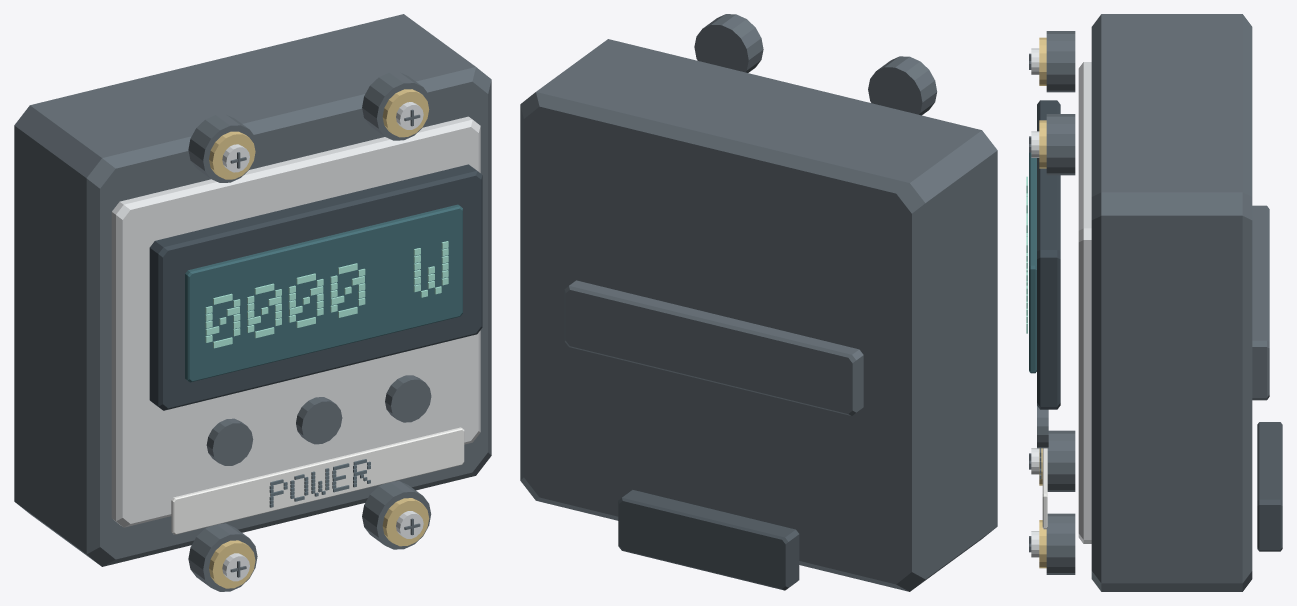
The model's file is wattmeter.glb.
The picture shows the model from 3 angles, left to right: view 1: azimuth 30°, elevation 25°; view 2: azimuth 150°, elevation 25°; view 3: azimuth 270°, elevation 25°; orthographic projection. The views are drawn at different scales.
Parts seen in each view (by area): view 1: wattmeter-preview; view 2: wattmeter-preview; view 3: wattmeter-preview.
Boxes of the visible parts, x1,y1,x2,y2 form: wattmeter-preview: [14, 14, 491, 591]; wattmeter-preview: [520, 14, 997, 591]; wattmeter-preview: [1026, 14, 1282, 591].
Size of the model in its own units: 2.33 by 2.56 by 1.31.
